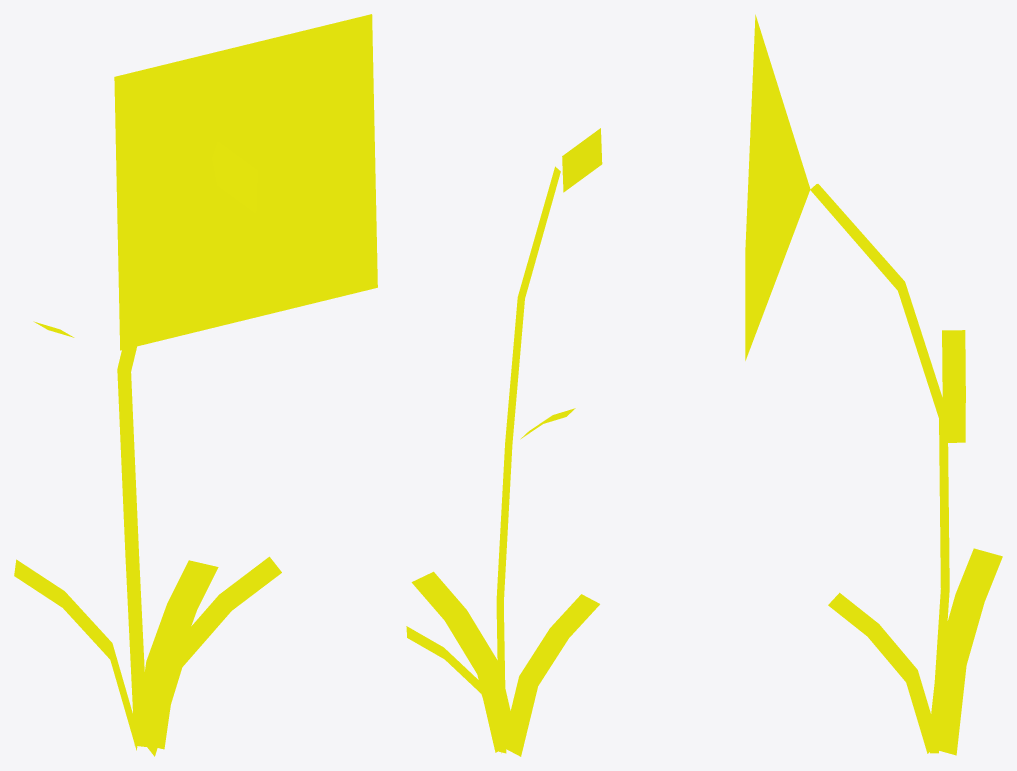
Rendered from Foliage_Flowers_Yellow_Flower_Yellow_High.glb.
The picture shows the model from 3 angles, left to right: view 1: azimuth 30°, elevation 25°; view 2: azimuth 150°, elevation 25°; view 3: azimuth 270°, elevation 25°; orthographic projection. The views are drawn at different scales.
Visible parts, largest first — view 1: YellowFlower.High; view 2: YellowFlower.High; view 3: YellowFlower.High.
Boxes of the visible parts, bbox=[...] form: YellowFlower.High: bbox=[14, 14, 377, 756]; YellowFlower.High: bbox=[406, 128, 602, 756]; YellowFlower.High: bbox=[745, 14, 1002, 755].
Bounding box in the file's own units: 0.0691 × 0.1986 × 0.0718.
1 material, 1 textured.
